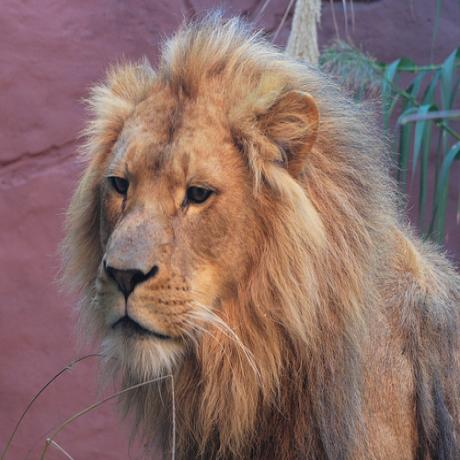Lion: (71, 5, 460, 458)
